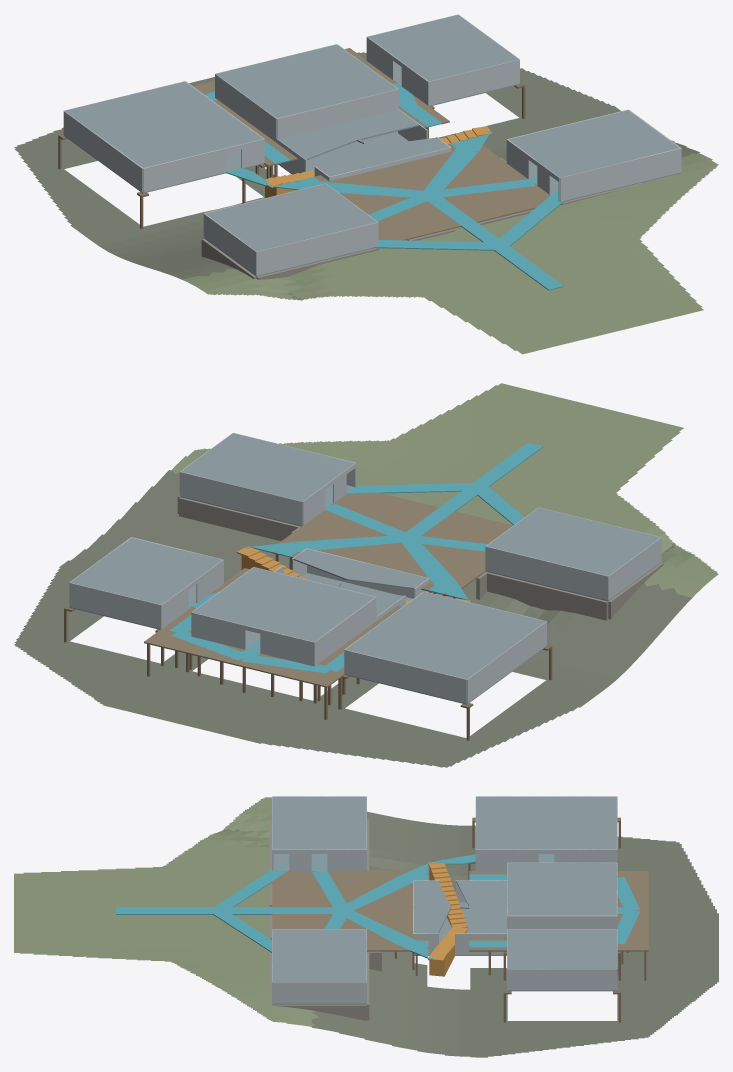
File: opened-stairs.glb
3 renders of one model, top to bottom at view 1: azimuth 30°, elevation 25°; view 2: azimuth 150°, elevation 25°; view 3: azimuth 270°, elevation 25°, orthographic. The views are drawn at different scales.
Visible parts, largest first — view 1: Saved editor macroterrain WLD-06, Ceiling cap boathouse, Ceiling cap fish, Ceiling cap cottage-a, Ceiling cap cottage-b, Ceiling cap net, Wall cottage-a S, Wall cottage-b S, Wall fish S, Wall net S, Wall boathouse S, Wall boathouse W (+24 smaller); view 2: Saved editor macroterrain WLD-06, Ceiling cap boathouse, Ceiling cap fish, Ceiling cap cottage-b, Ceiling cap cottage-a, Ceiling cap net, Wall cottage-a N, Wall boathouse N, Wall cottage-b N, Wall net N, Wall boathouse W, Wall fish W (+16 smaller); view 3: Saved editor macroterrain WLD-06, Ceiling cap boathouse, Ceiling cap fish, Ceiling cap cottage-a, Ceiling cap cottage-b, Ceiling cap net, Wall net E, Wall cottage-b E, Wall fish E, Wall boathouse E.001, Ceiling cap undercroft, Ceiling cap undercroft.004 (+20 smaller).
Part boxes in pixels (box(x1,y1,x2,y2)): Saved editor macroterrain WLD-06: box(14, 52, 718, 354); Ceiling cap boathouse: box(64, 81, 263, 167); Ceiling cap fish: box(216, 44, 397, 118); Ceiling cap cottage-a: box(205, 184, 376, 251); Ceiling cap cottage-b: box(508, 110, 679, 177); Ceiling cap net: box(368, 15, 518, 81); Wall cottage-a S: box(256, 222, 378, 275); Wall cottage-b S: box(560, 148, 681, 201); Wall fish S: box(277, 89, 398, 138); Wall net S: box(428, 59, 519, 105); Wall boathouse S: box(143, 148, 226, 192); Wall boathouse W: box(63, 111, 142, 192); Saved editor macroterrain WLD-06: box(14, 383, 718, 767); Ceiling cap boathouse: box(345, 591, 545, 678); Ceiling cap fish: box(192, 567, 375, 641); Ceiling cap cottage-b: box(181, 433, 354, 501); Ceiling cap cottage-a: box(486, 507, 660, 575); Ceiling cap net: box(70, 538, 222, 604); Wall cottage-a N: box(485, 546, 608, 600); Wall boathouse N: box(344, 649, 466, 703); Wall cottage-b N: box(180, 471, 302, 525); Wall net N: box(69, 582, 161, 628); Wall boathouse W: box(467, 621, 546, 703); Wall fish W: box(314, 597, 376, 666); Saved editor macroterrain WLD-06: box(14, 797, 718, 1057); Ceiling cap boathouse: box(476, 796, 617, 849); Ceiling cap fish: box(507, 863, 617, 915); Ceiling cap cottage-a: box(272, 796, 366, 849); Ceiling cap cottage-b: box(272, 929, 366, 981); Ceiling cap net: box(507, 929, 617, 968); Wall net E: box(507, 968, 617, 990); Wall cottage-b E: box(272, 982, 366, 1003); Wall fish E: box(507, 915, 617, 928); Wall boathouse E.001: box(476, 849, 538, 871); Ceiling cap undercroft: box(469, 880, 506, 906); Ceiling cap undercroft.004: box(469, 908, 506, 933).
Bounding box in the file's own units: 70 × 7.86 × 90.
